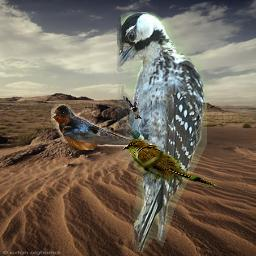Cuckoo: (122, 138, 217, 187)
Swallow: (51, 104, 153, 150), (123, 91, 142, 119)
Woodpecker: (117, 12, 207, 252)
